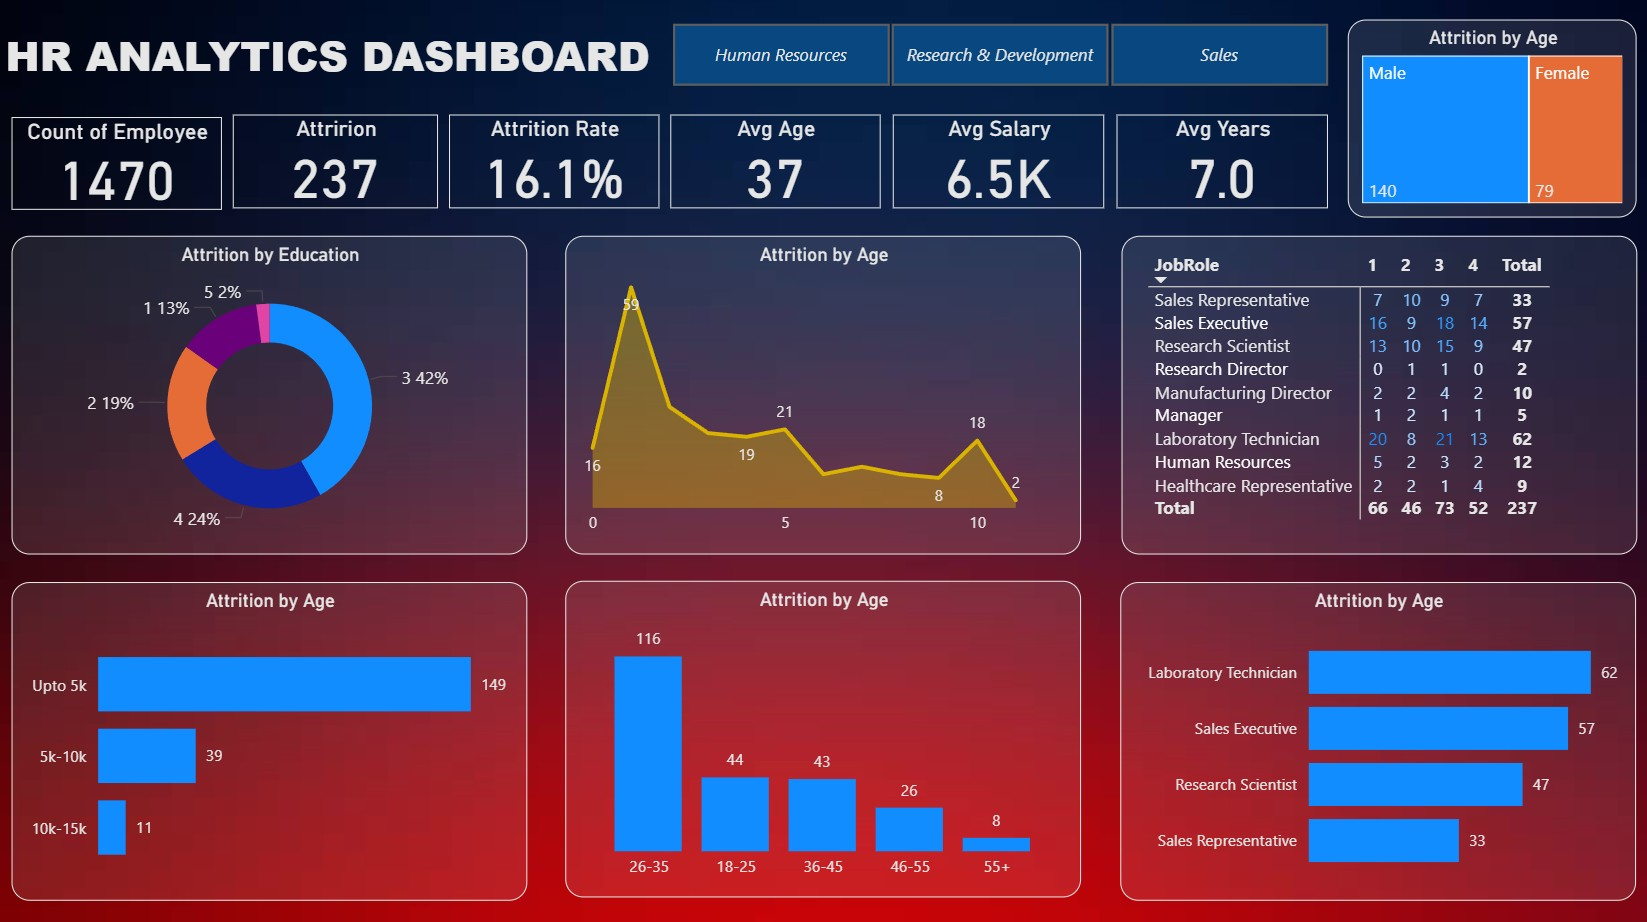

What the dashboard file says about the page in this screenshot:
{"tool":"powerbi","page":{"name":"Page 1","canvas":[1280,720],"ordinal":0},"visuals":[{"type":"card","title":"Count of Employee","fields":{"Values":["CountNonNull(HR_Analytics.EmpID)"]},"box":[10.1,92.6,163.5,72.3],"z":0},{"type":"card","title":"Avg Age","fields":{"Values":["Avg(HR_Analytics.Age)"]},"box":[520.4,91.2,162.9,72.9],"z":1000},{"type":"card","title":"Attrition Rate","fields":{"Values":["HR_Analytics.Attrtion Rate"]},"box":[348.9,91.2,162.9,72.9],"z":2000},{"type":"card","title":"Attririon ","fields":{"Values":["Sum(HR_Analytics.AttritionCount)"]},"box":[181.2,91.2,159.3,72.9],"z":3000},{"type":"card","title":"Avg Years","fields":{"Values":["Avg(HR_Analytics.YearsAtCompany)"]},"box":[867,91.2,164.1,72.9],"z":4000},{"type":"card","title":"Avg Salary","fields":{"Values":["Avg(HR_Analytics.MonthlyIncome)"]},"box":[693,91.2,164.1,72.9],"z":5000},{"type":"donutChart","title":"Attrition by Education","fields":{"Category":["HR_Analytics.Education"],"Y":["Sum(HR_Analytics.AttritionCount)"]},"box":[9.7,184.8,400,246.8],"z":6000},{"type":"columnChart","title":"Attrition by Age","fields":{"Category":["HR_Analytics.AgeGroup"],"Y":["Sum(HR_Analytics.AttritionCount)"]},"box":[438.9,452.3,400,245.6],"z":7000},{"type":"pivotTable","fields":{"Rows":["HR_Analytics.JobRole"],"Columns":["HR_Analytics.JobSatisfaction"],"Values":["Sum(HR_Analytics.AttritionCount)"]},"box":[870.5,184.8,400,246.8],"z":8000},{"type":"barChart","title":"Attrition by Age","fields":{"Category":["HR_Analytics.JobRole"],"Y":["Sum(HR_Analytics.AttritionCount)"]},"box":[869.3,453.5,400,246.8],"z":9000},{"type":"areaChart","title":"Attrition by Age","fields":{"Category":["HR_Analytics.YearsAtCompany"],"Y":["Sum(HR_Analytics.AttritionCount)"]},"box":[438.9,184.8,400,246.8],"z":10000},{"type":"treemap","title":"Attrition by Age","fields":{"Group":["HR_Analytics.Gender"],"Values":["Sum(HR_Analytics.AttritionCount)"]},"box":[1045.9,17.4,224.2,153.3],"z":11000},{"type":"slicer","fields":{"Values":["HR_Analytics.Department"]},"box":[496.1,13.4,558.1,62],"z":12000},{"type":"textbox","box":[0,17.4,538.2,55],"z":13000},{"type":"barChart","title":"Attrition by Age","fields":{"Category":["HR_Analytics.SalarySlab"],"Y":["Sum(HR_Analytics.AttritionCount)"]},"box":[9.7,453.5,400,246.8],"z":14000}]}

Visuals, with their boxes in screenshot pixels (x1, y1, x2, y2), scaled from the page's 1280x720 canvas onto the 1647x922 screenshot:
"Count of Employee" card: <bbox>13, 119, 223, 211</bbox>
"Avg Age" card: <bbox>670, 117, 879, 210</bbox>
"Attrition Rate" card: <bbox>449, 117, 659, 210</bbox>
"Attririon " card: <bbox>233, 117, 438, 210</bbox>
"Avg Years" card: <bbox>1116, 117, 1327, 210</bbox>
"Avg Salary" card: <bbox>892, 117, 1103, 210</bbox>
"Attrition by Education" donutChart: <bbox>12, 237, 527, 553</bbox>
"Attrition by Age" columnChart: <bbox>565, 579, 1079, 894</bbox>
pivotTable - HR_Analytics.JobRole x HR_Analytics.JobSatisfaction: <bbox>1120, 237, 1635, 553</bbox>
"Attrition by Age" barChart: <bbox>1119, 581, 1633, 897</bbox>
"Attrition by Age" areaChart: <bbox>565, 237, 1079, 553</bbox>
"Attrition by Age" treemap: <bbox>1346, 22, 1634, 219</bbox>
slicer - HR_Analytics.Department: <bbox>638, 17, 1356, 97</bbox>
textbox: <bbox>0, 22, 693, 93</bbox>
"Attrition by Age" barChart: <bbox>12, 581, 527, 897</bbox>
